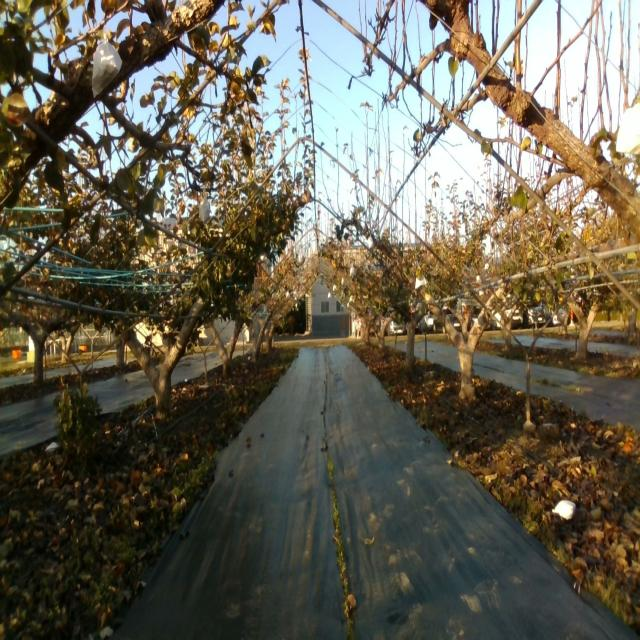pearbags: (90, 30, 123, 100), (616, 102, 640, 158), (198, 188, 211, 229)
